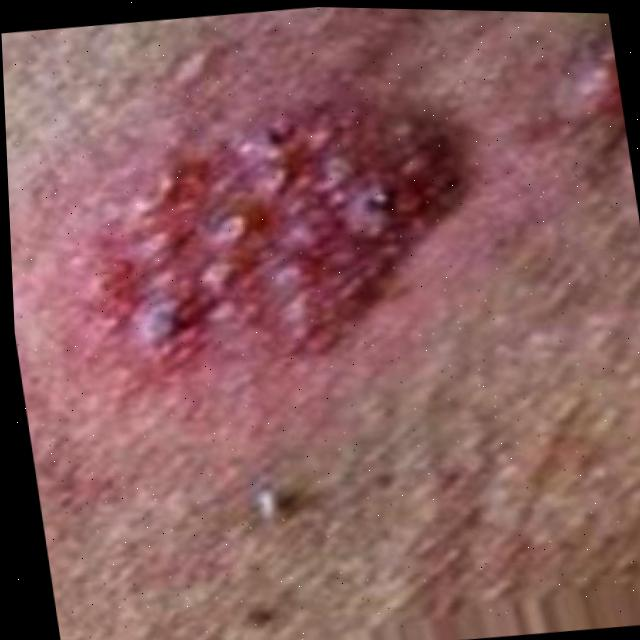Shingles: (75, 71, 488, 387)
